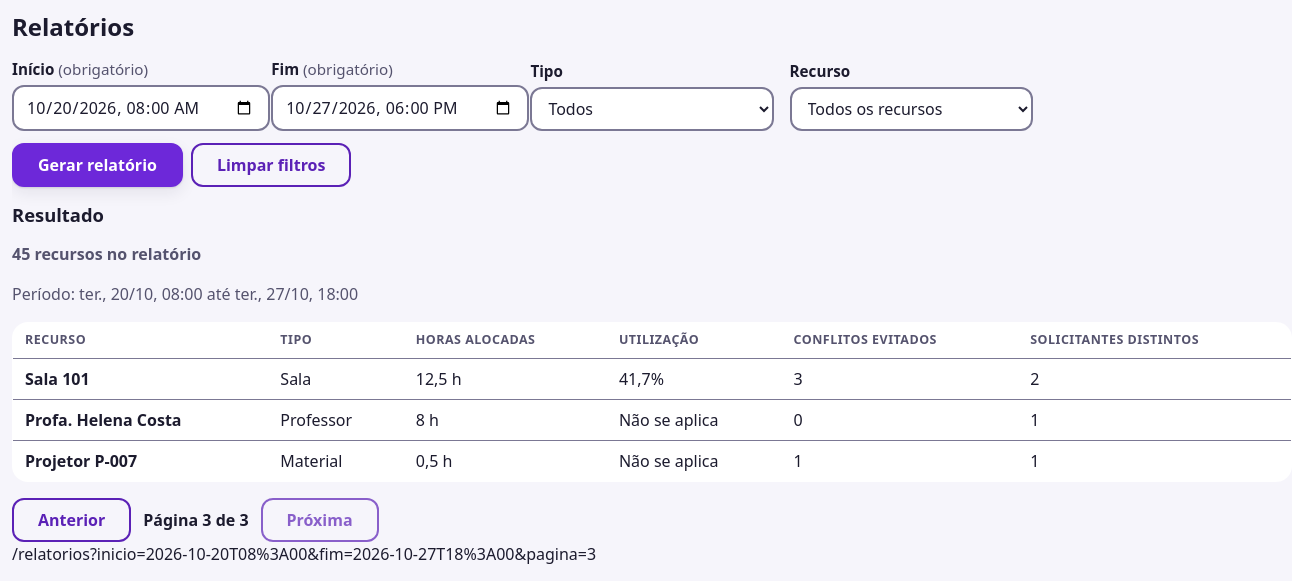
Scenario: PaginaDeRelatorios: paginação (o tamanho da página é a suposição D4) › na última página a Próxima fica desabilitada, e Anterior volta uma página
Expected: the text "Página 3 de 3" is shown, left=143, top=508, right=249, bottom=532
Expected: the button "Próxima" is disabled, left=260, top=498, right=379, bottom=542
Click the button "Anterior" at (72, 520), box left=12, top=498, right=131, bottom=542
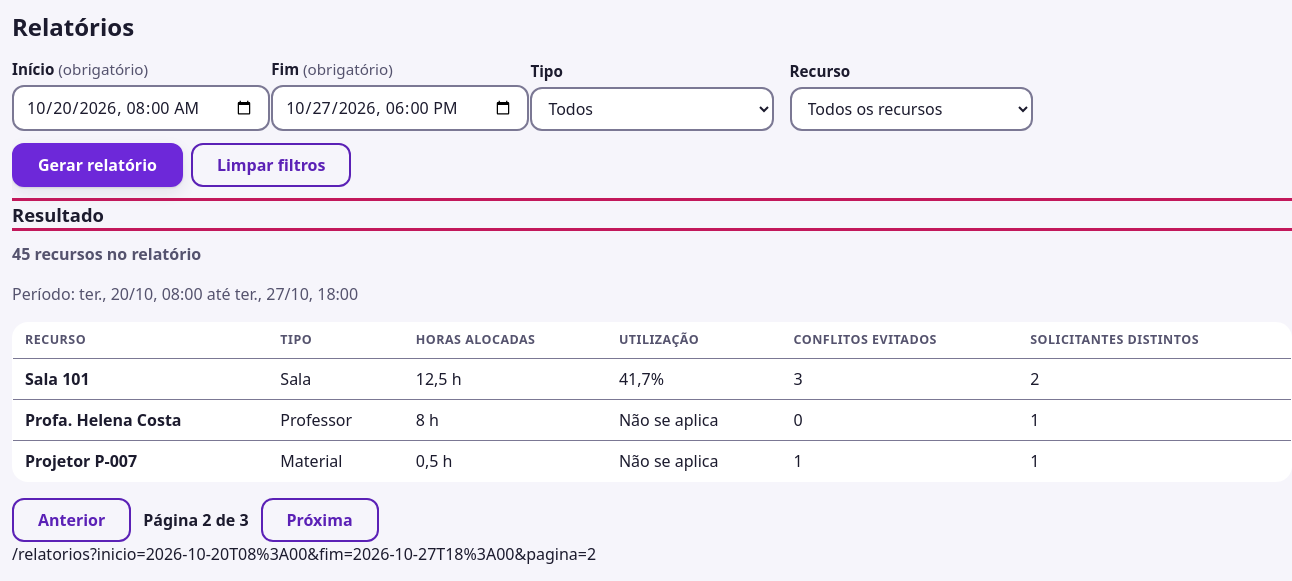
Now the text "Página 2 de 3" is shown, box left=143, top=508, right=249, bottom=532
